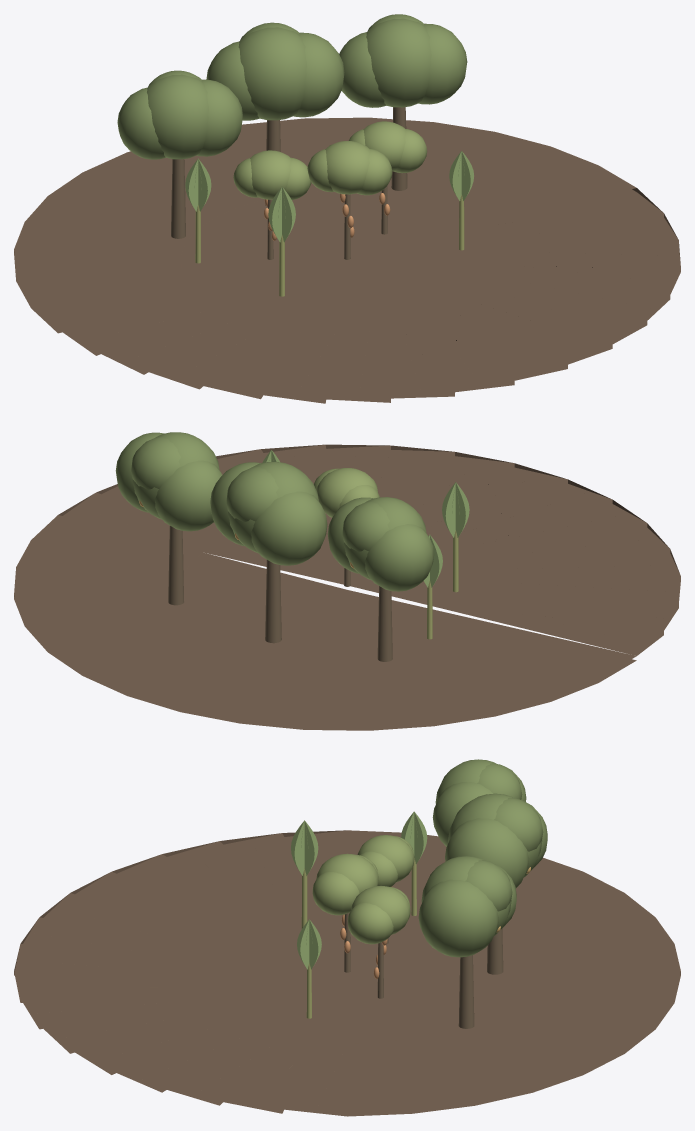
The model's file is agroforest.glb.
3 views of the same model, one above another, from view 1: azimuth 30°, elevation 25°; view 2: azimuth 150°, elevation 25°; view 3: azimuth 270°, elevation 25° (orthographic).
Parts seen in each view (by area): view 1: ground-node, mango-0-canopy-a, mango-2-canopy-a, mango-1-canopy-a, mango-0-canopy-b, mango-2-canopy-b, mango-1-canopy-b, mango-2-canopy-c, mango-1-canopy-c, cacao-0-canopy-a, mango-0-canopy-c, cacao-1-canopy-a (+7 smaller); view 2: ground-node, mango-0-canopy-c, mango-1-canopy-c, mango-2-canopy-c, mango-0-canopy-d, mango-2-canopy-d, mango-1-canopy-d, mango-0-canopy-a, mango-2-canopy-a, cacao-0-canopy-a, mango-1-canopy-a, mango-0-canopy-b (+7 smaller); view 3: ground-node, mango-2-canopy-b, mango-0-canopy-b, mango-0-canopy-d, mango-1-canopy-b, cacao-0-canopy-b, cacao-2-canopy-b, mango-2-canopy-d, cacao-2-canopy-a, cacao-0-canopy-a, mango-0-canopy-a, cacao-1-canopy-a (+8 smaller).
Part boxes in pixels (x1,y1,x2,y2): ground-node: (14,117,680,403); mango-0-canopy-a: (238,27,306,120); mango-2-canopy-a: (366,18,431,107); mango-1-canopy-a: (147,74,208,159); mango-0-canopy-b: (293,32,344,117); mango-2-canopy-b: (418,23,467,104); mango-1-canopy-b: (196,79,242,156); mango-2-canopy-c: (339,32,385,107); mango-1-canopy-c: (117,87,165,159); cacao-0-canopy-a: (325,141,369,194); mango-0-canopy-c: (206,41,258,120); cacao-1-canopy-a: (250,150,291,199); ground-node: (14,444,680,730); mango-0-canopy-c: (251,491,327,565); mango-1-canopy-c: (365,524,434,591); mango-2-canopy-c: (155,460,222,531); mango-0-canopy-d: (226,466,278,522); mango-2-canopy-d: (131,437,180,489); mango-1-canopy-d: (342,501,389,551); mango-0-canopy-a: (228,461,318,553); mango-2-canopy-a: (132,432,219,519); cacao-0-canopy-a: (316,468,377,517); mango-1-canopy-a: (343,497,426,580); mango-0-canopy-b: (210,462,260,545); ground-node: (14,830,680,1116); mango-2-canopy-b: (418,879,498,957); mango-0-canopy-b: (445,818,529,888); mango-0-canopy-d: (494,797,543,851); mango-1-canopy-b: (432,782,493,846); cacao-0-canopy-b: (312,872,359,915); cacao-2-canopy-b: (347,903,393,944); mango-2-canopy-d: (465,860,512,911); cacao-2-canopy-a: (351,886,410,934); cacao-0-canopy-a: (316,853,378,893); mango-0-canopy-a: (448,793,542,877); cacao-1-canopy-a: (357,835,414,882).
Bounding box in the file's own units: 28 × 8.23 × 28.
